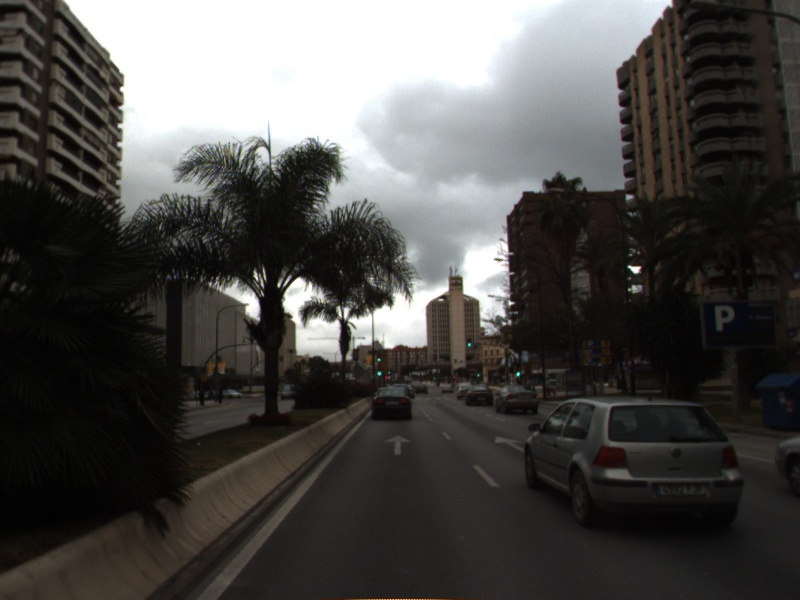STRAIGHT: (382, 432, 413, 457), (492, 433, 526, 452)
